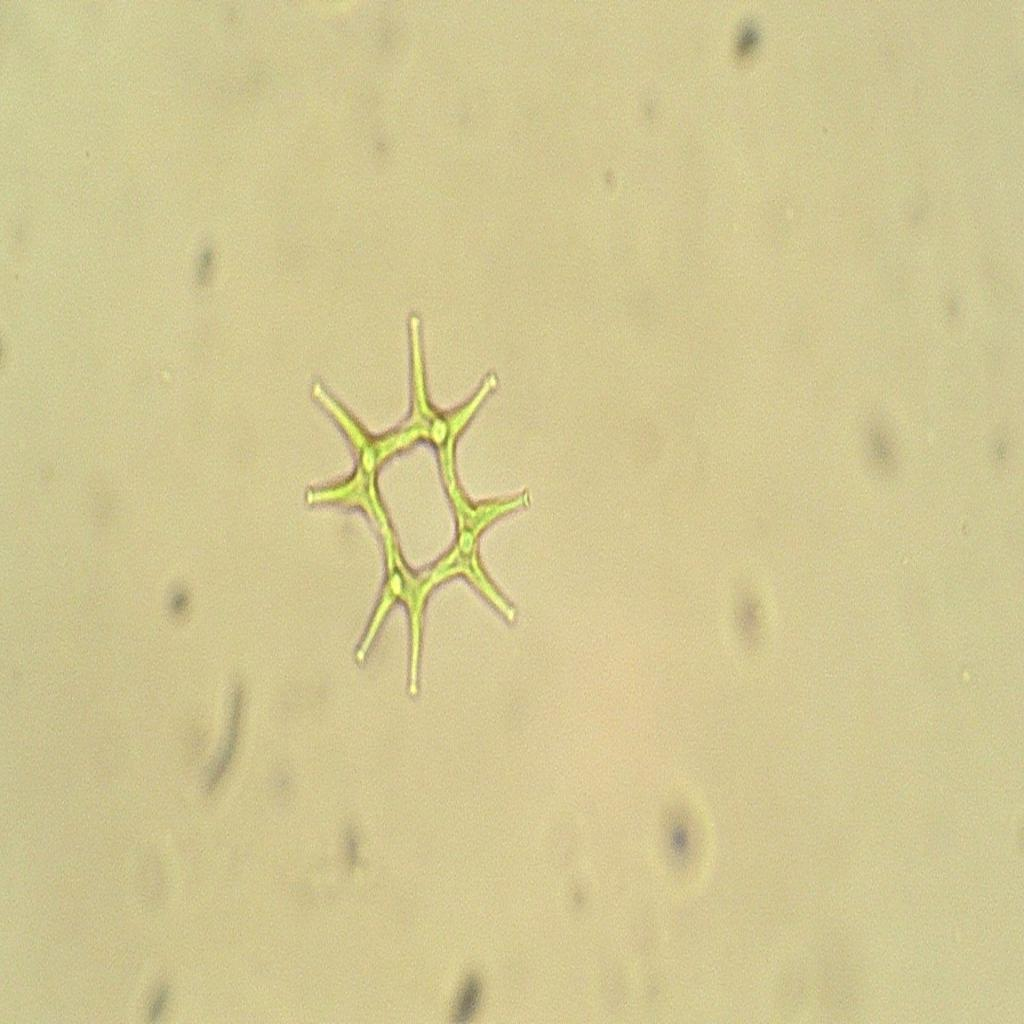Pediastrum_10: (285, 298, 553, 708)
